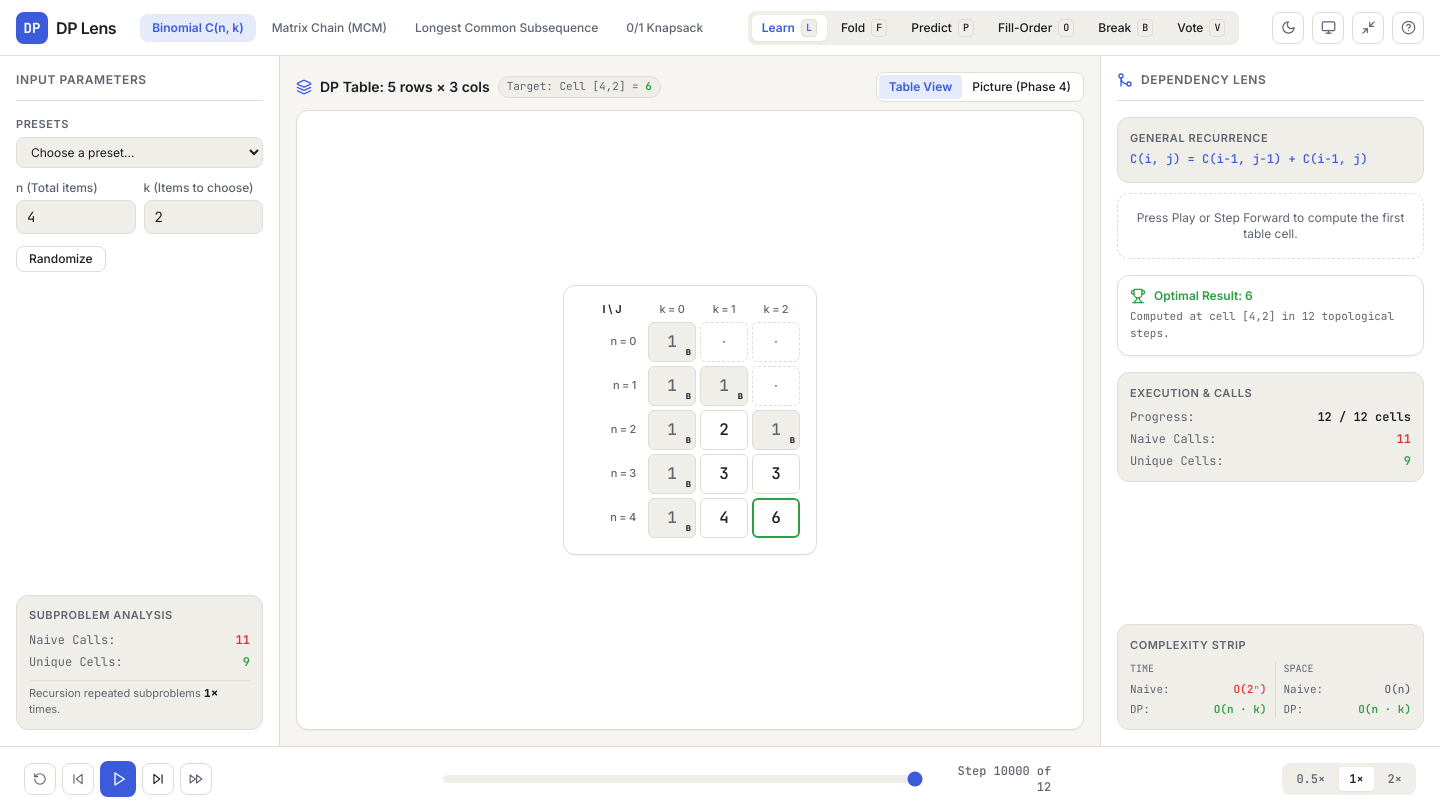
Scenario: Phase 2 UI Integration › switches algorithms on tab click and renders corresponding table
Check: the button "Binomial C(n, k)" is shown, box [140,14,256,42]
Check: the text "Target: Cell [4,2] = 6" is shown, box [498,76,661,98]
// Click MCM tab
Click the button "Matrix Chain (MCM)" at x=329, y=28, box [260,14,399,42]
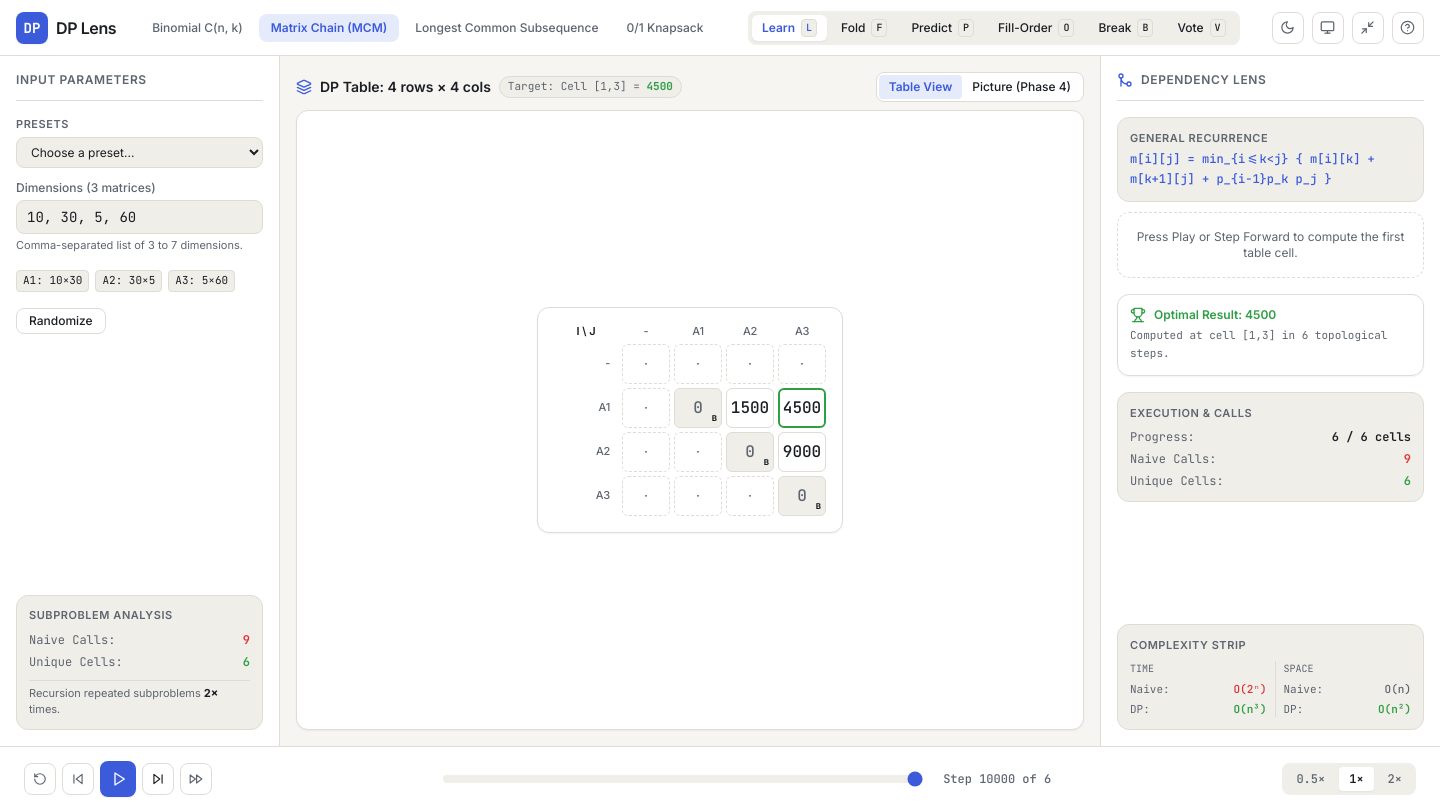
Check: the text "Target: Cell [1,3] = 4500" is shown, box [499,76,682,98]
// Click LCS tab
Click the button "Longest Common Subsequence" at x=507, y=28, box [403,14,610,42]
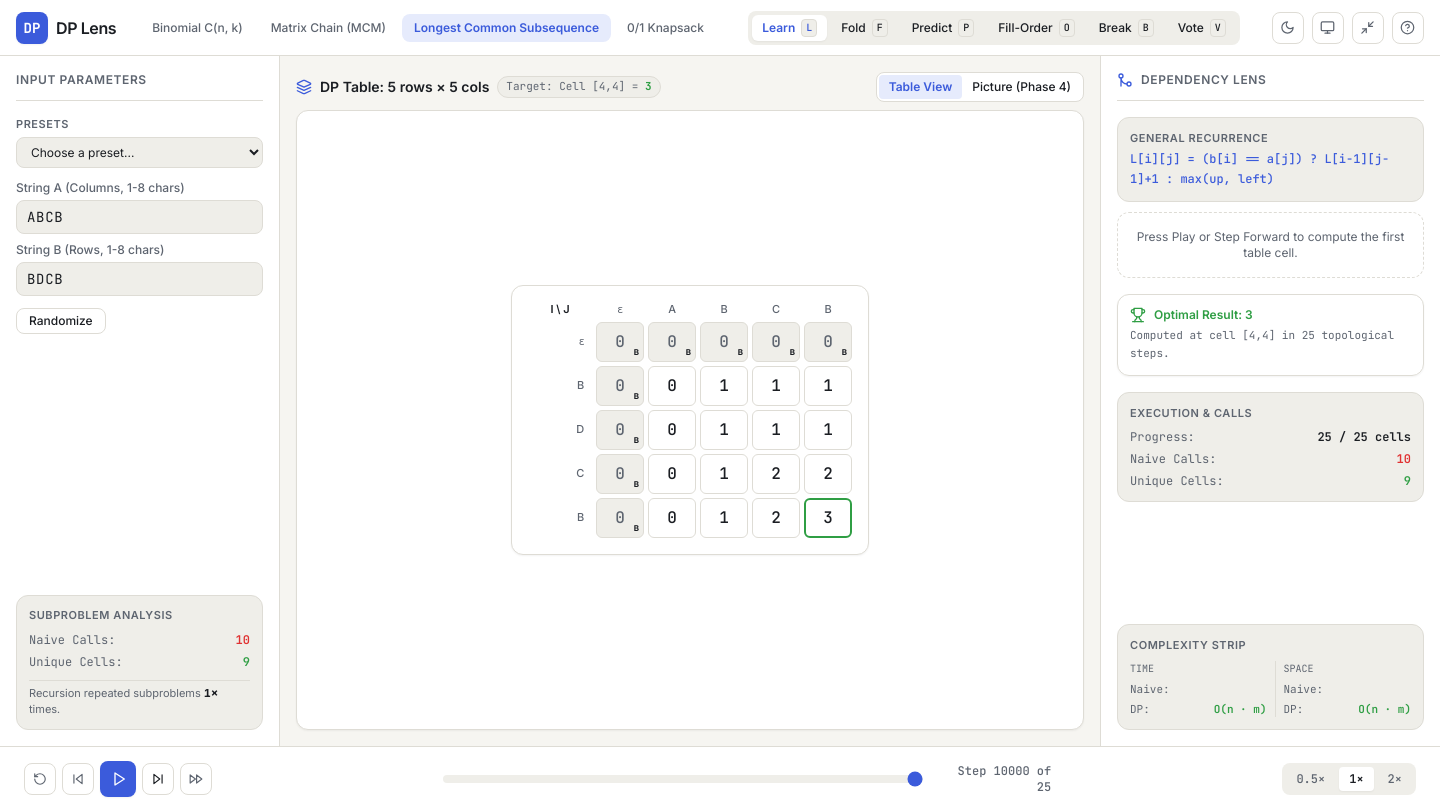
Check: the text "Target: Cell [4,4] = 3" is shown, box [497,76,660,98]
// Click Knapsack tab
Click the button "0/1 Knapsack" at x=666, y=28, box [615,14,716,42]
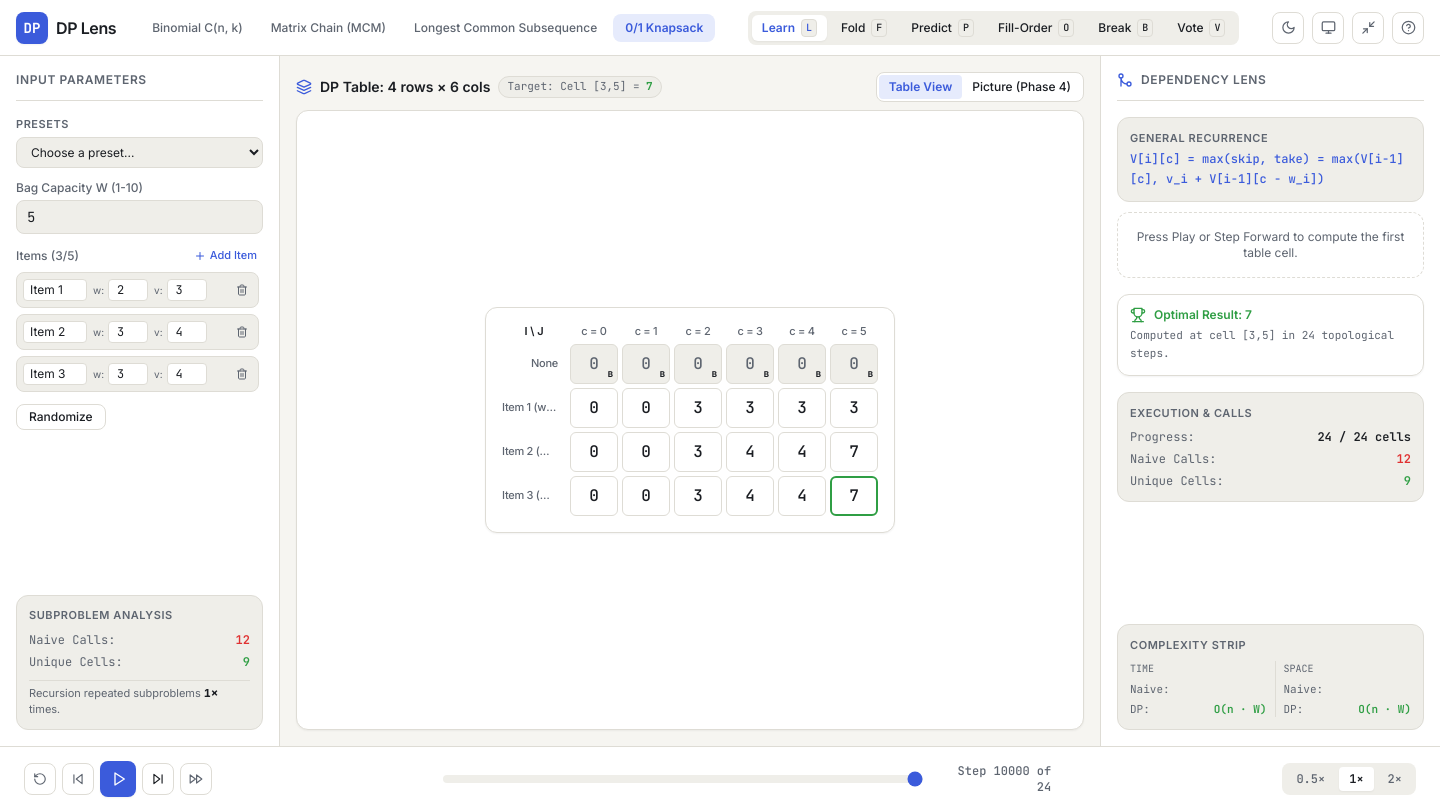
Check: the text "Target: Cell [3,5] = 7" is shown, box [498,76,662,98]
